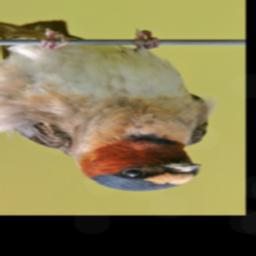Swallow: (0, 18, 217, 192)
